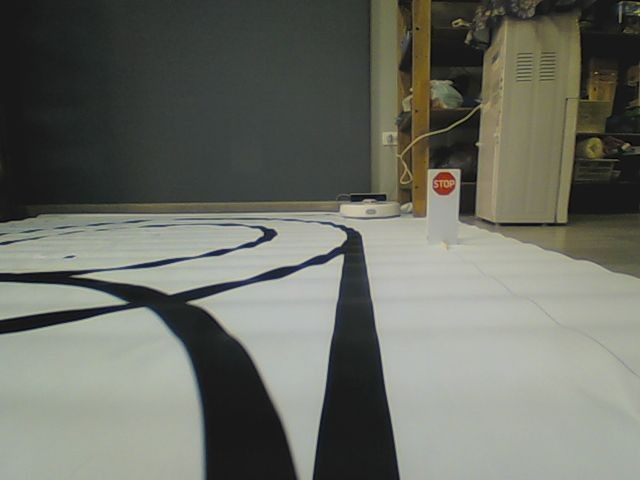Stop: (431, 170, 457, 196)
